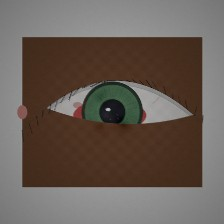hemorrhage_spot: (59, 75, 160, 155)
